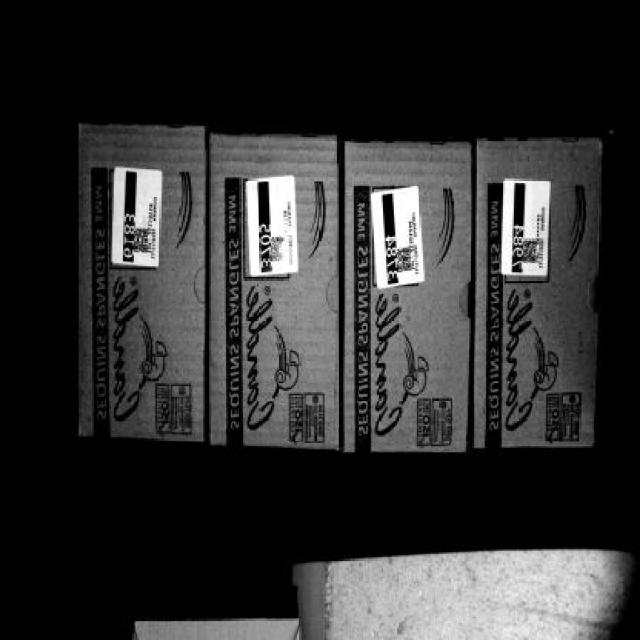cardboxes: (474, 138, 608, 448), (342, 143, 473, 455), (78, 131, 202, 440), (212, 139, 334, 446)
